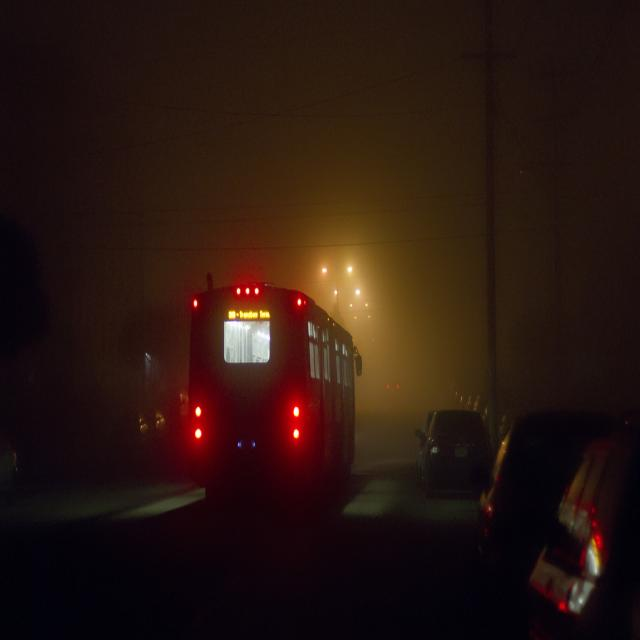Bus: (178, 267, 373, 524)
car: (471, 381, 623, 548), (547, 436, 640, 640), (410, 384, 505, 514)
